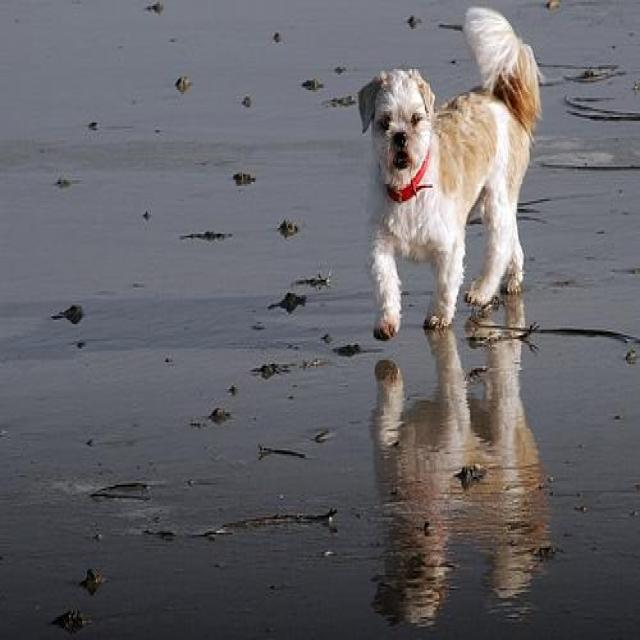shih_tzu: (354, 4, 542, 341)
